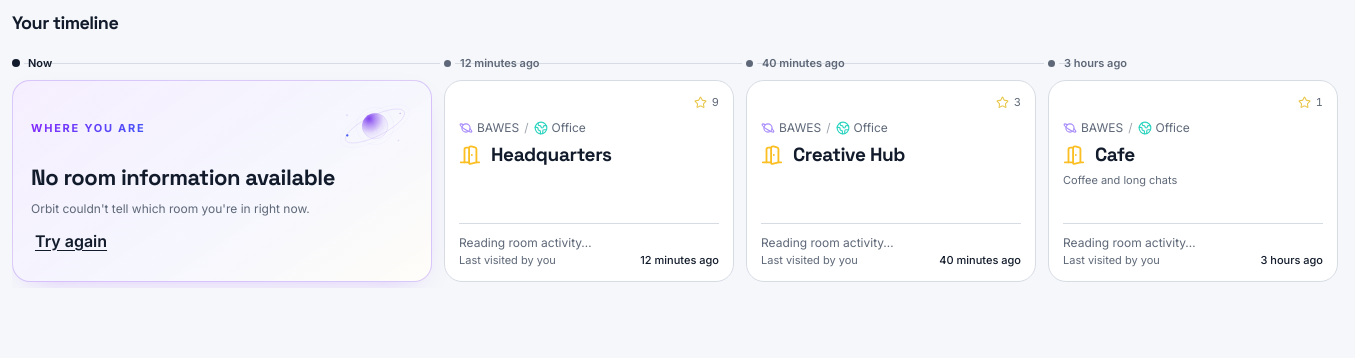
Where you are, when it fails › Try again clears the failure at once, then shows the room
Check: the heading "No room information available" is shown, box [31,163,335,191]
Click the button "Try again".
click(71, 241)  # box [31,219,111,263]
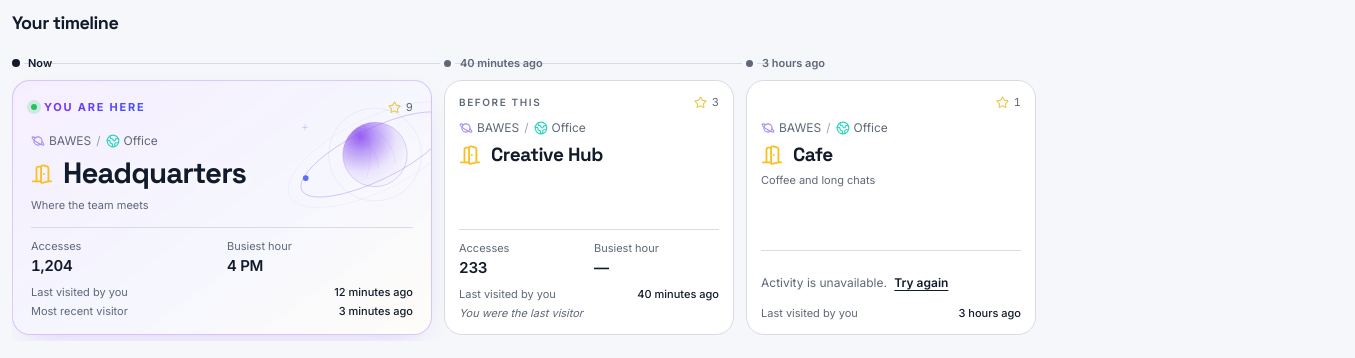
Check: the link "Headquarters" is shown, box [63,154,246,192]
Check: the heading "No room information available" is gone
